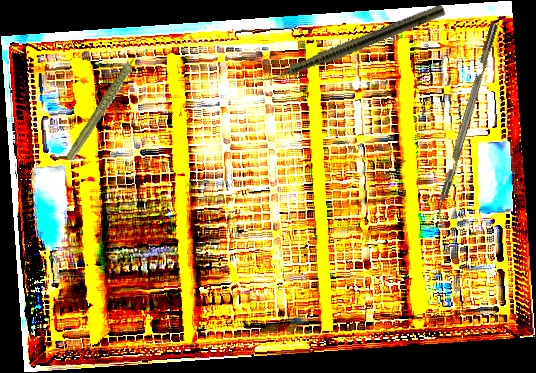Chopper: (429, 22, 509, 229)
Handpiece: (252, 1, 447, 92), (46, 47, 167, 163)
